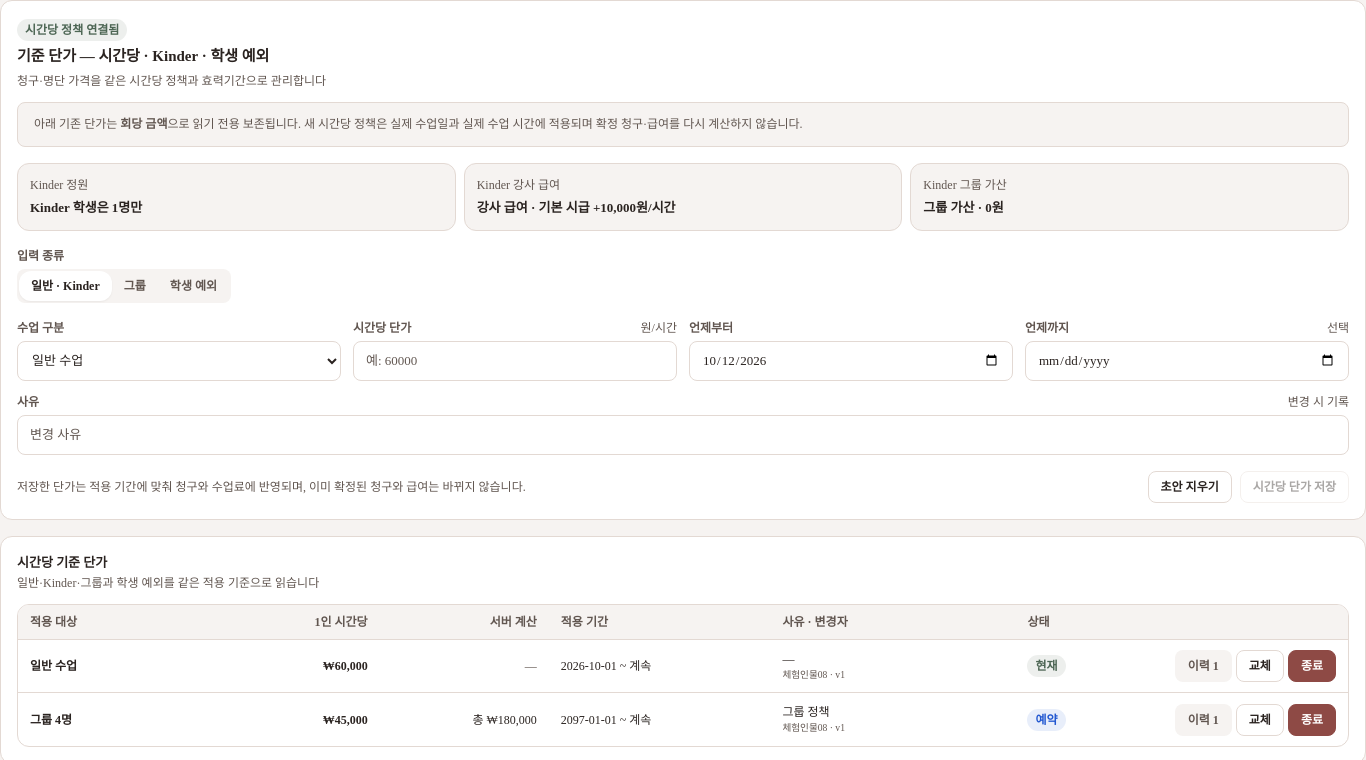
Test: 학생 예외는 meta를 그때만 읽고 대상·개별 시간당 단가·기준 대비 %·효력기간·사유를 준비한다
Click the button "학생 예외".
click(194, 286)  # box [158,270,229,300]
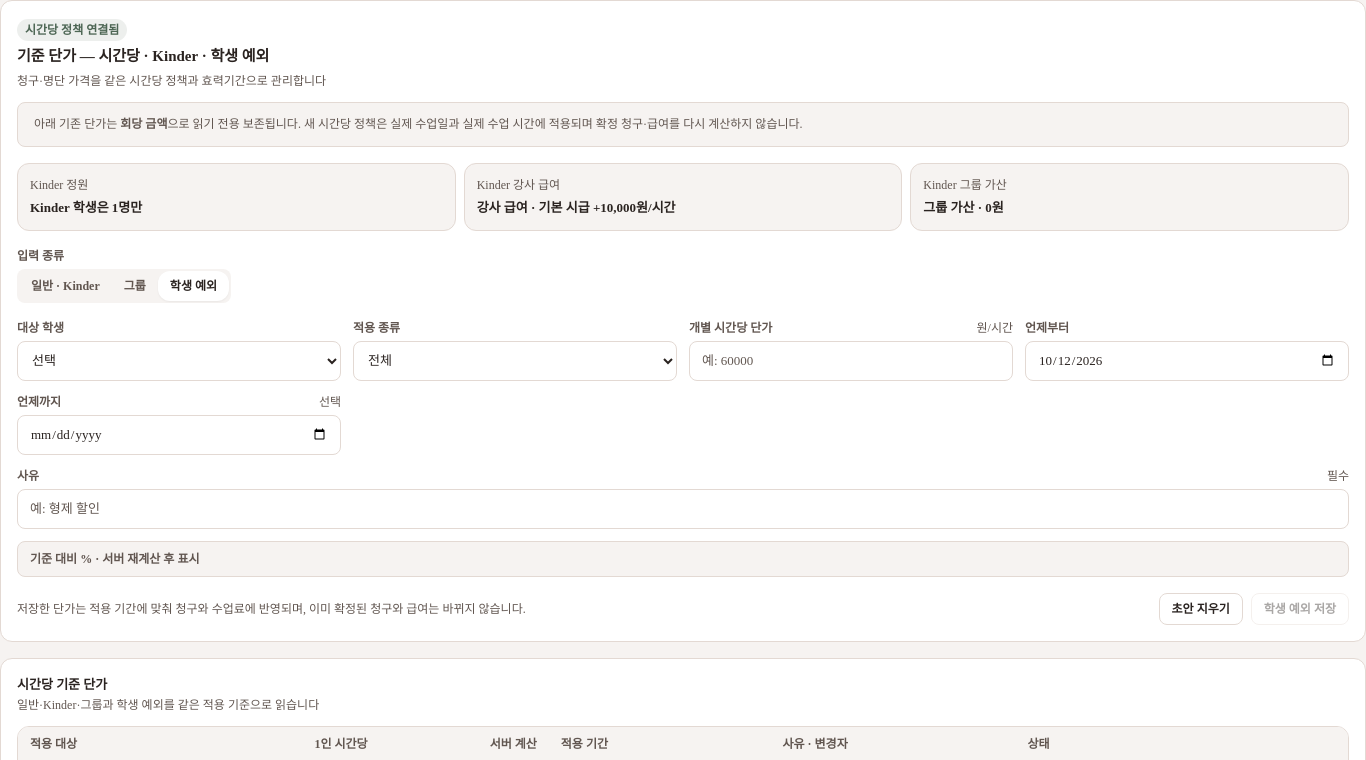
Leave the dropdown labelled "대상 학생", box [17,340,341,380]
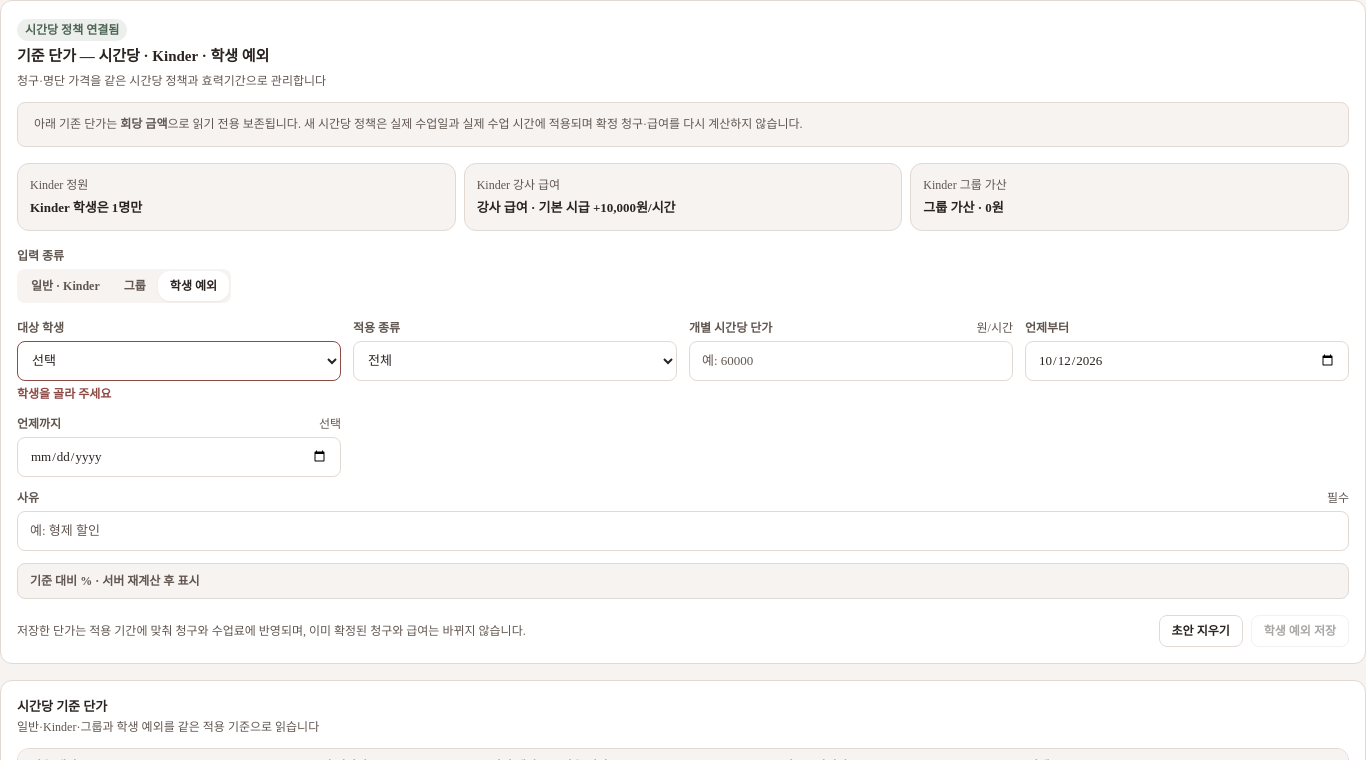
Leave the field labelled "사유", box [17,510,1349,550]
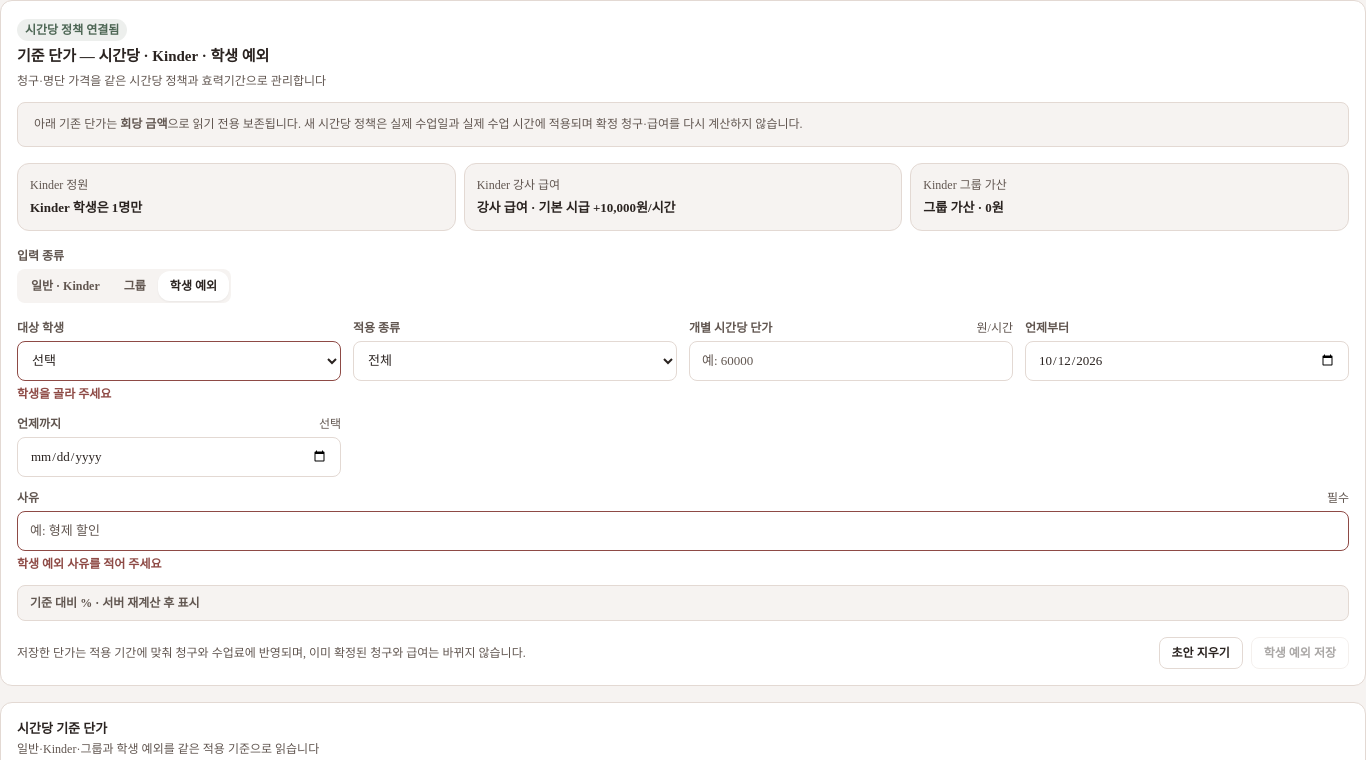
Expected: the text "학생을 골라 주세요" is shown, [17,386,111,400]
Expected: the text "기준 대비 % · 서버 재계산 후 표시" is shown, [17,584,1349,620]
Expected: the text "학생 예외 사유를 적어 주세요" is shown, [17,556,162,570]
